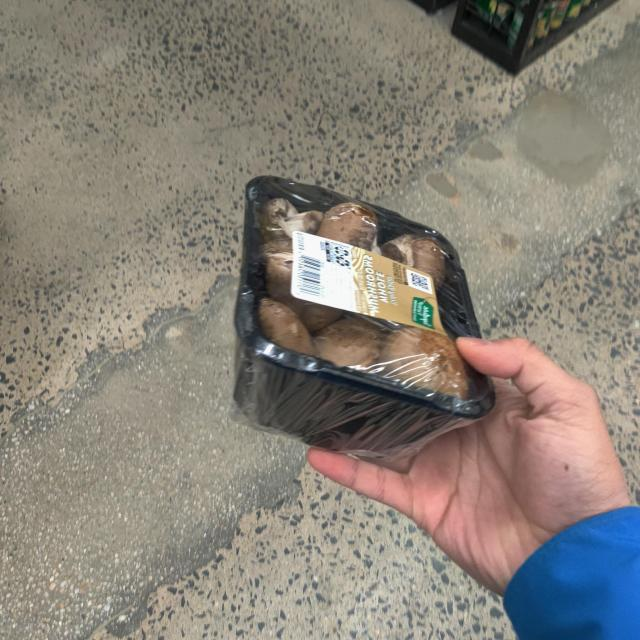mushroom: (221, 174, 504, 456)
